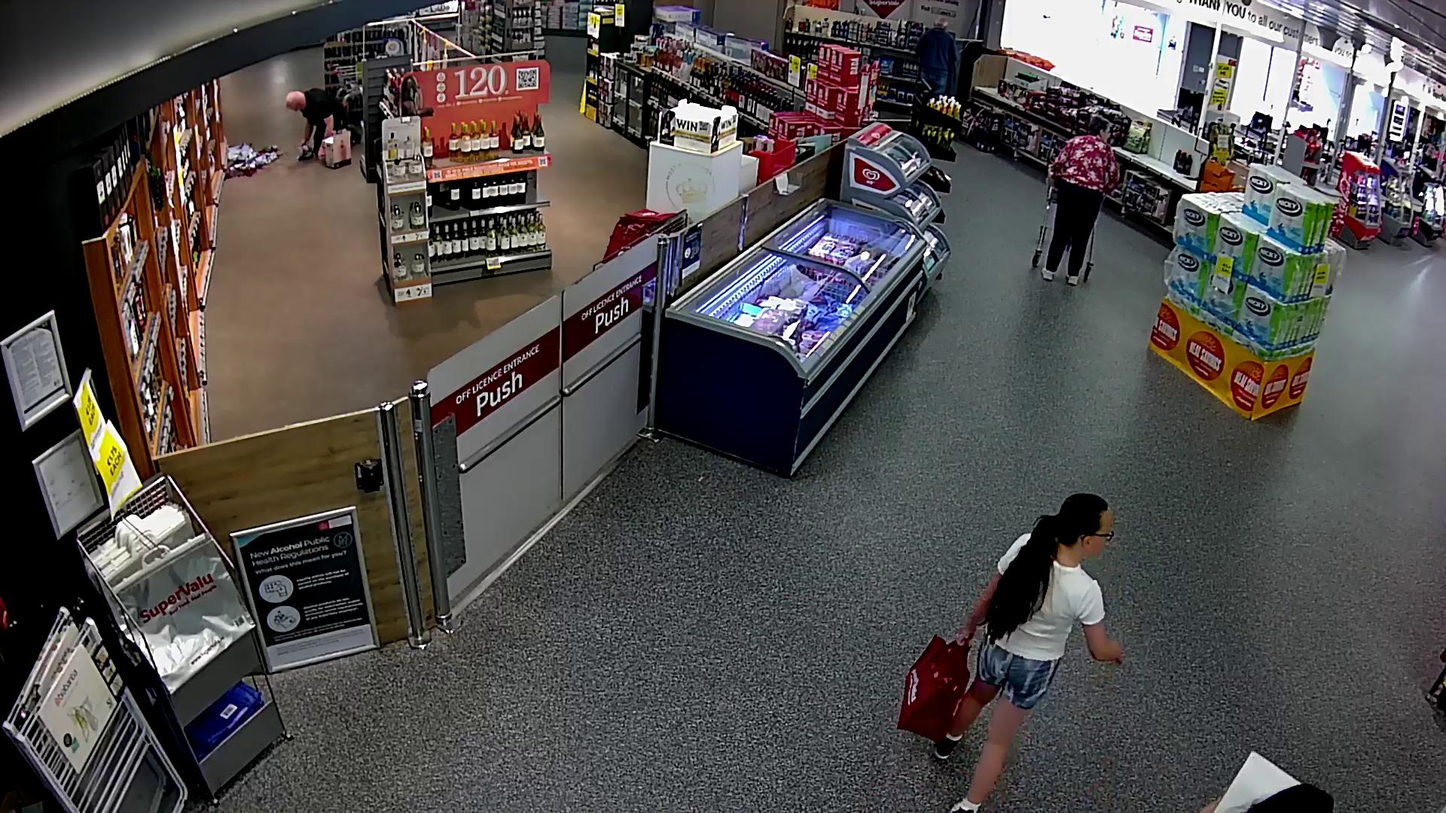filled-shopping-bags: (895, 634, 971, 743)
person: (936, 492, 1122, 813), (1040, 119, 1120, 285)
person-with-filled-basket-trolly: (1031, 119, 1120, 286), (1032, 119, 1120, 285)
person-with-filled-shopping-bag-s-: (895, 492, 1122, 813)
